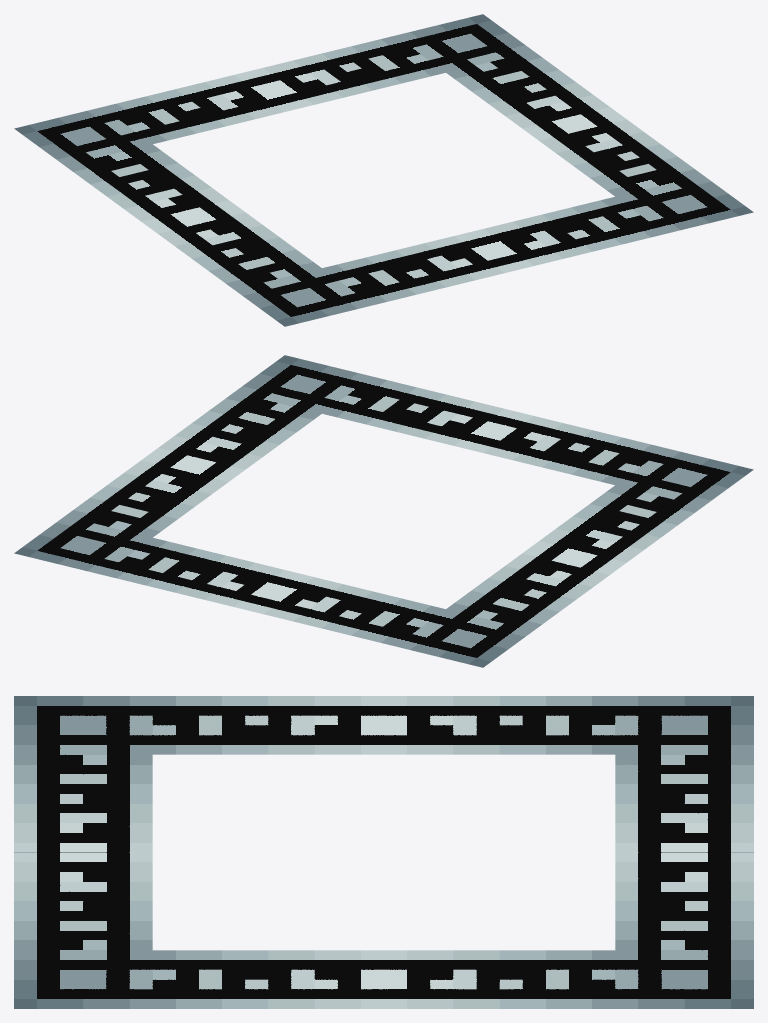
File: mana_crystal_runes.obj
3 views of the same model, one above another, from view 1: azimuth 30°, elevation 25°; view 2: azimuth 150°, elevation 25°; view 3: azimuth 270°, elevation 25° (orthographic). The views are drawn at different scales.
Visible parts, largest first — view 1: Cube.001; view 2: Cube.001; view 3: Cube.001.
Boxes of the visible parts, x1,y1,x2,y2 form: Cube.001: (14,14,753,326); Cube.001: (14,355,753,667); Cube.001: (14,696,753,1008).
Size of the model in its own units: 1 by 0 by 1.
